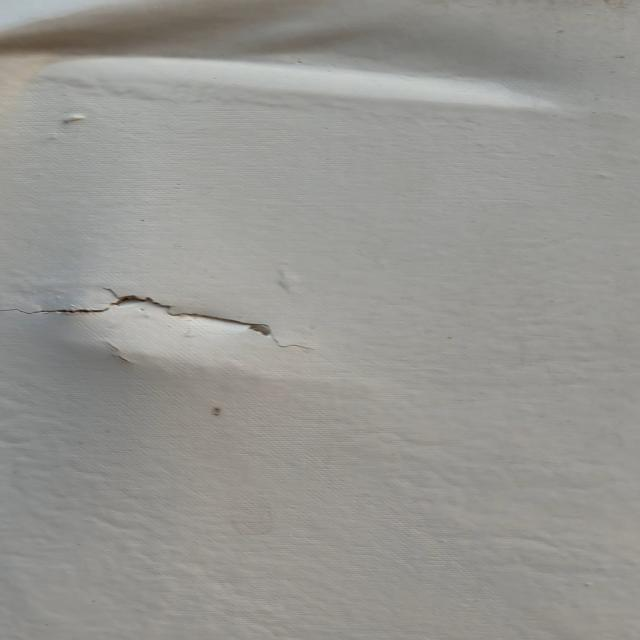Dents or Deformation: (1, 1, 640, 139)
Scratches: (1, 283, 333, 357)
